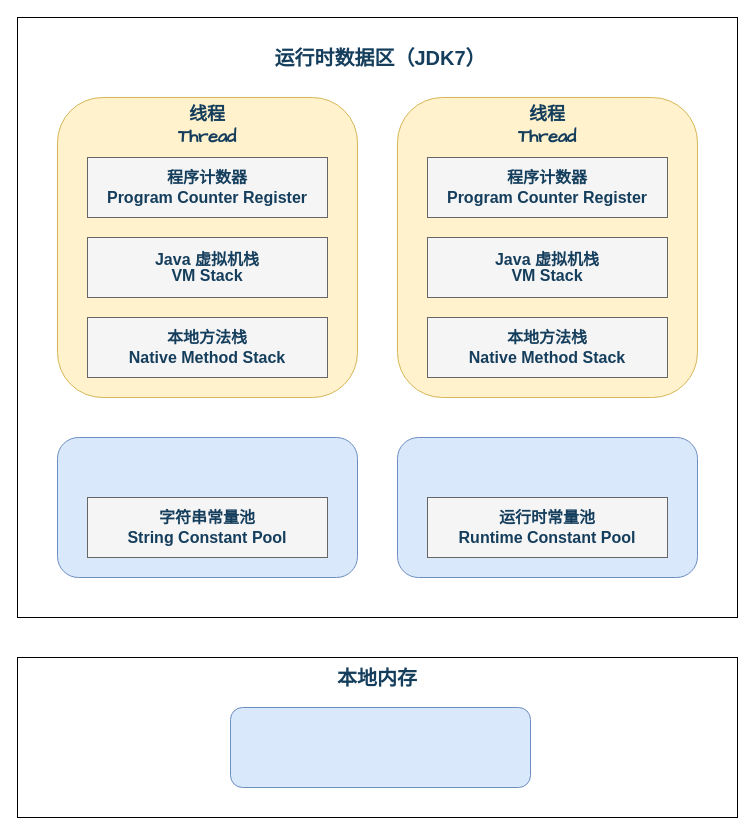
Some shapes in this 755 by 835 pixel diagram are drawn without their labels. The box of each missing label's shape, as (x1, y1, x2, y2) in pixels:
堆 Heap: (56, 436, 358, 578)
方法区 Method Area: (396, 436, 698, 578)
直接内存 Direct Memory: (230, 706, 530, 788)
